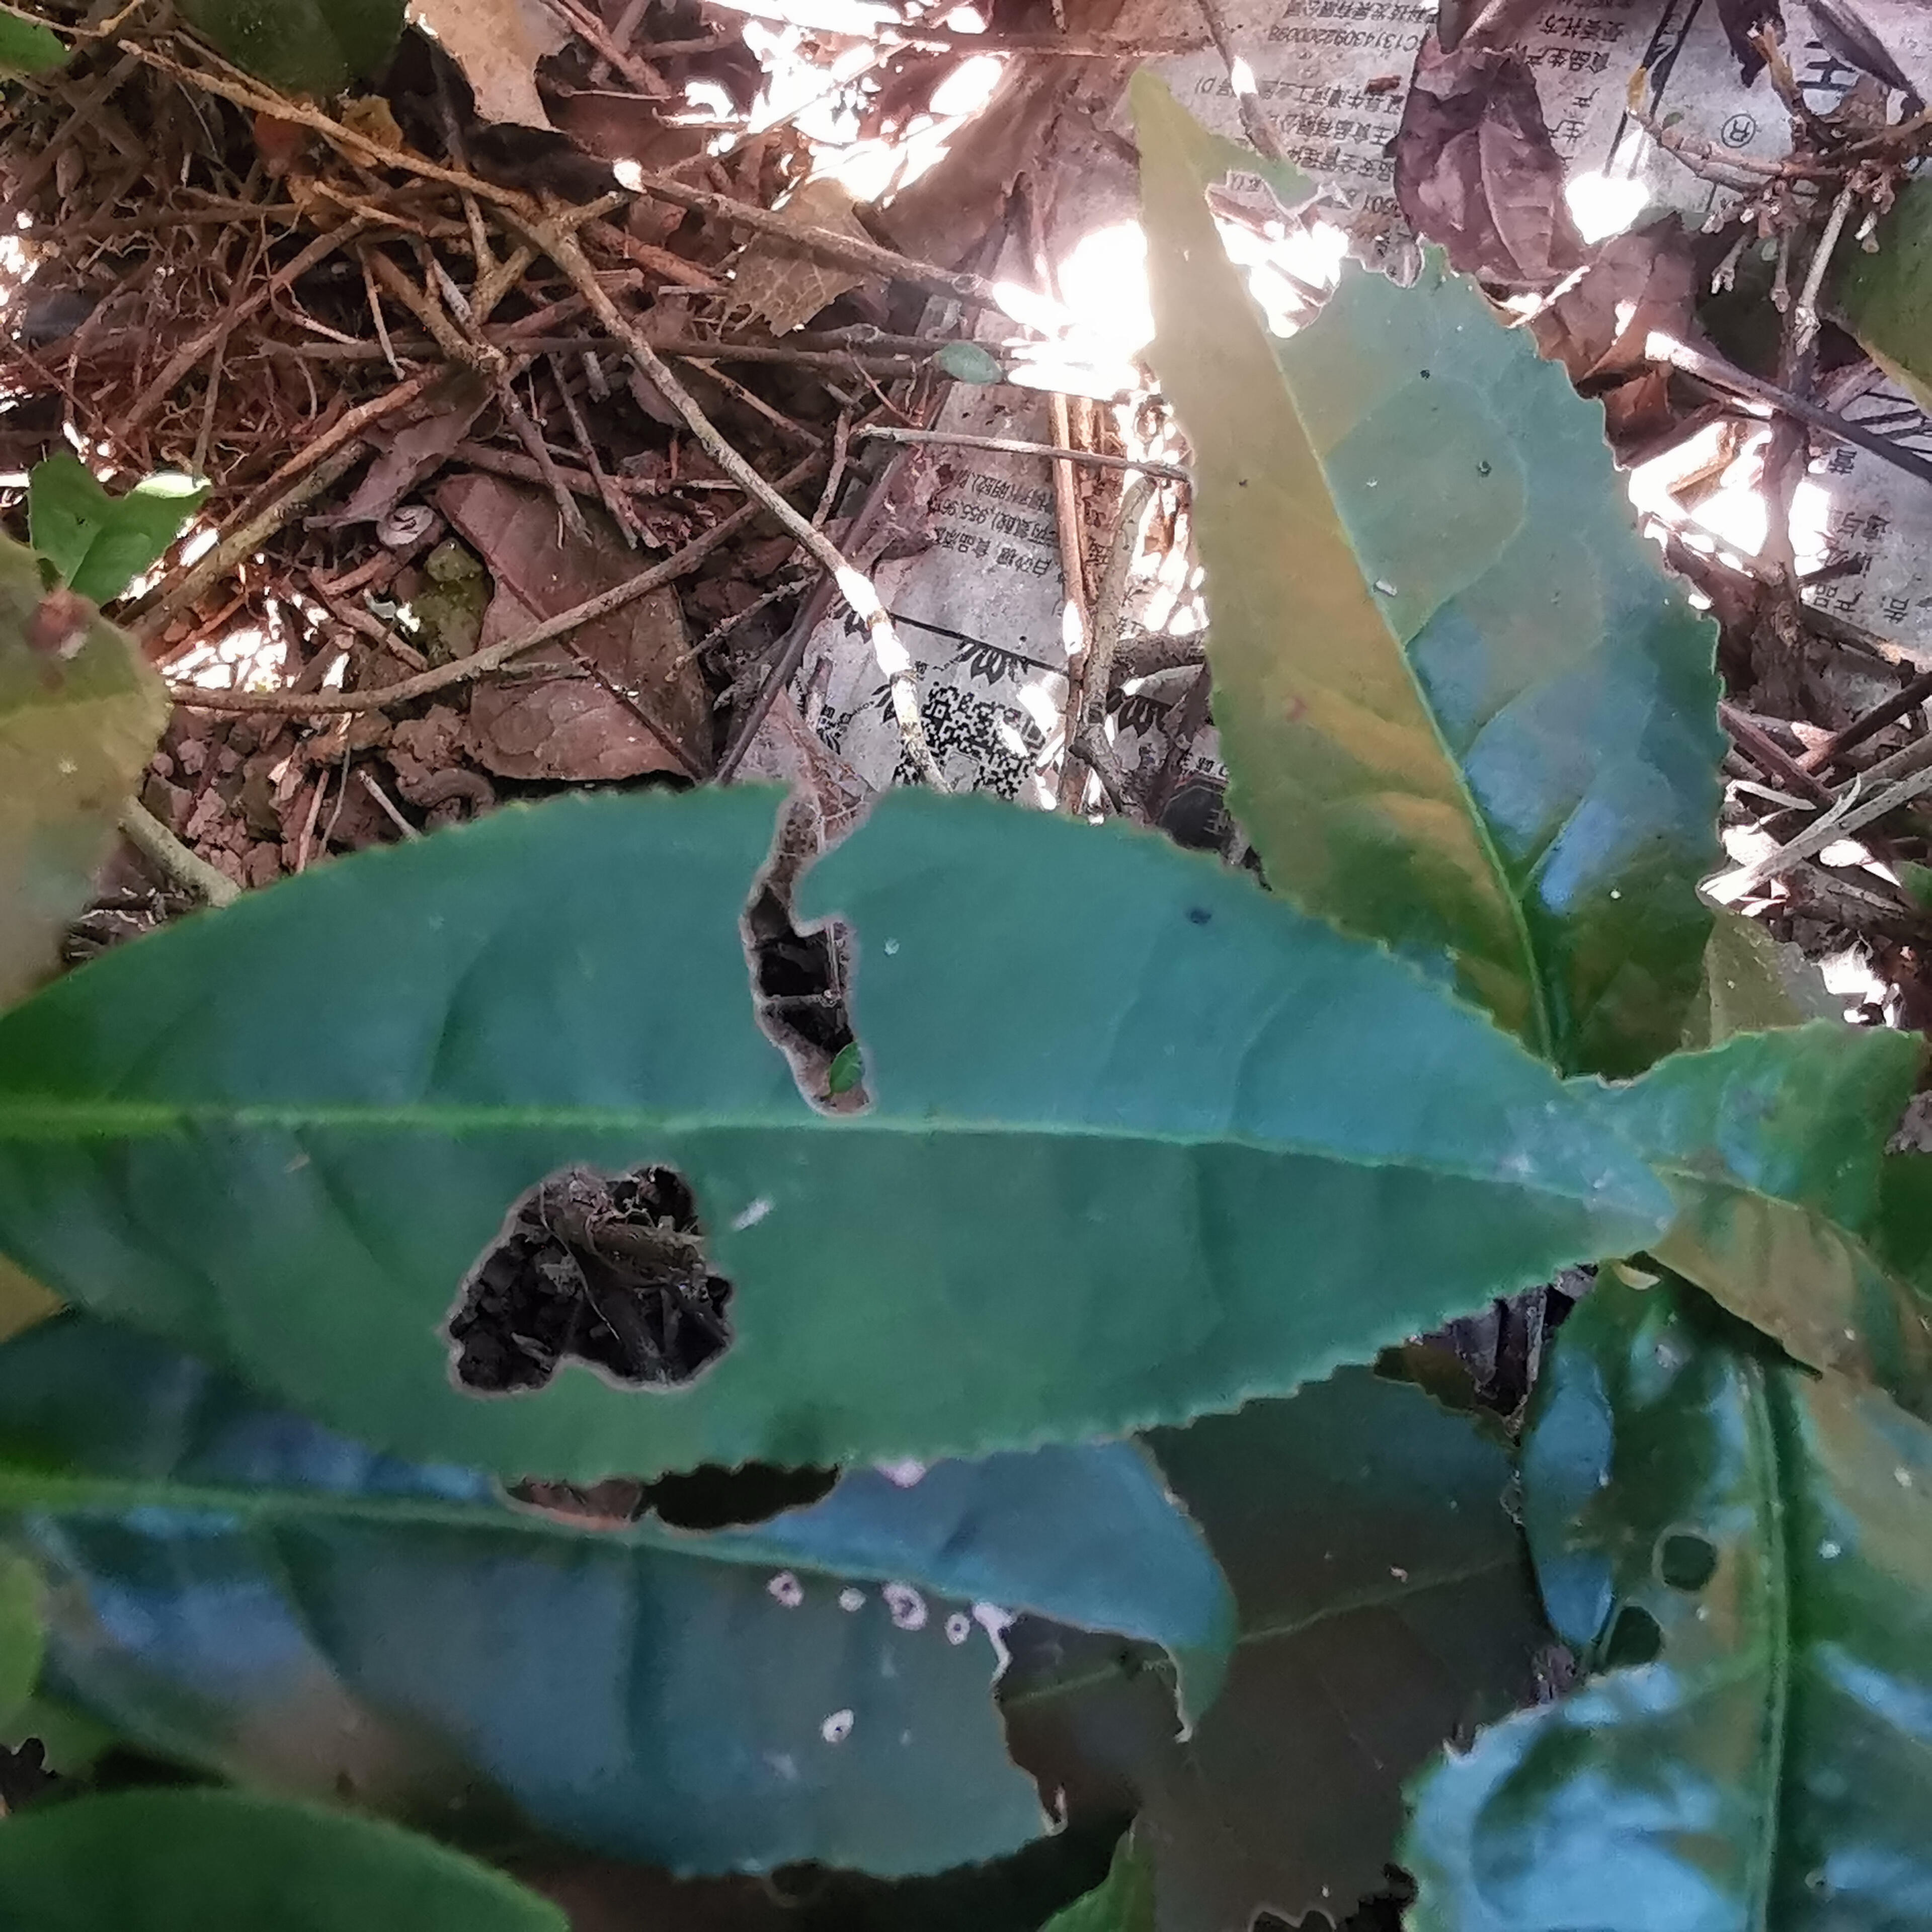chihuo_high: (4, 780, 1674, 1491), (4, 1304, 1253, 1884), (1129, 58, 1741, 1081), (1394, 1256, 1928, 1927)
